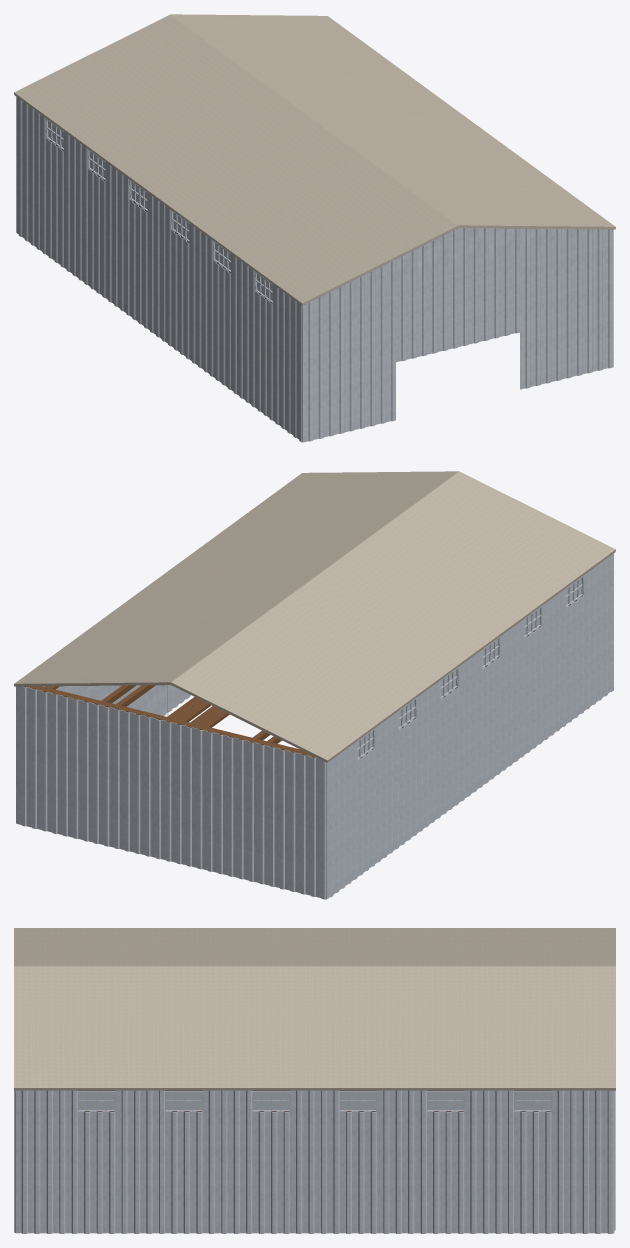
The model's file is Warehouse.dae.
3 renders of one model, top to bottom at view 1: azimuth 30°, elevation 25°; view 2: azimuth 150°, elevation 25°; view 3: azimuth 270°, elevation 25°, orthographic. The views are drawn at different scales.
Parts seen in each view (by area): view 1: node; view 2: node; view 3: node.
Part boxes in pixels (box(x1,y1,x2,y2)): node: box(14, 14, 615, 442); node: box(14, 471, 615, 899); node: box(14, 928, 615, 1233).
Bounding box in the file's own units: 5.48 × 3 × 8.72.
5 materials, 5 textured.
